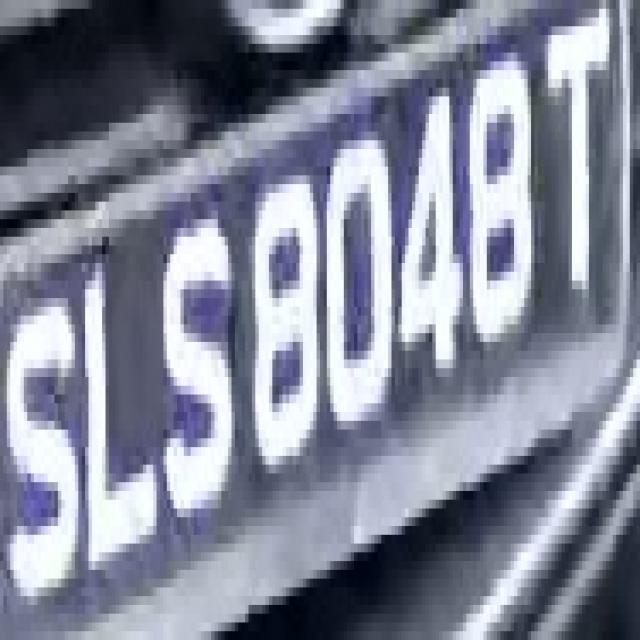0: (310, 114, 398, 456)
4: (385, 79, 473, 421)
8: (456, 44, 541, 377), (248, 158, 324, 482)
L: (65, 228, 177, 587)
S: (150, 210, 238, 552), (0, 272, 82, 622)
T: (541, 0, 613, 307)
